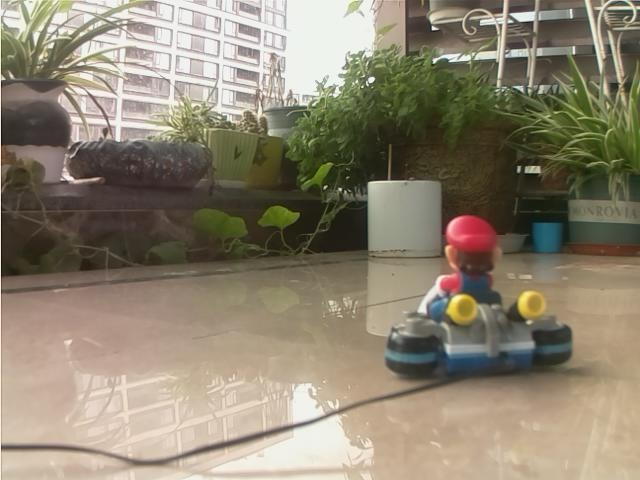mario: (375, 204, 592, 400)
